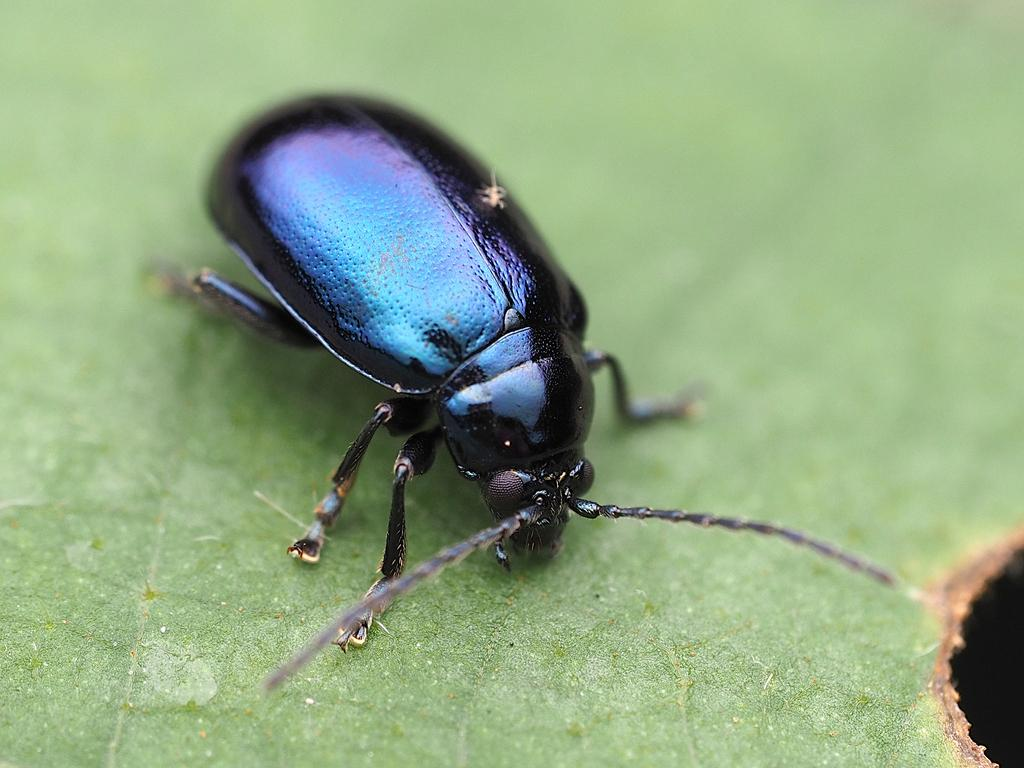flea_beetle: (111, 49, 1014, 768)
